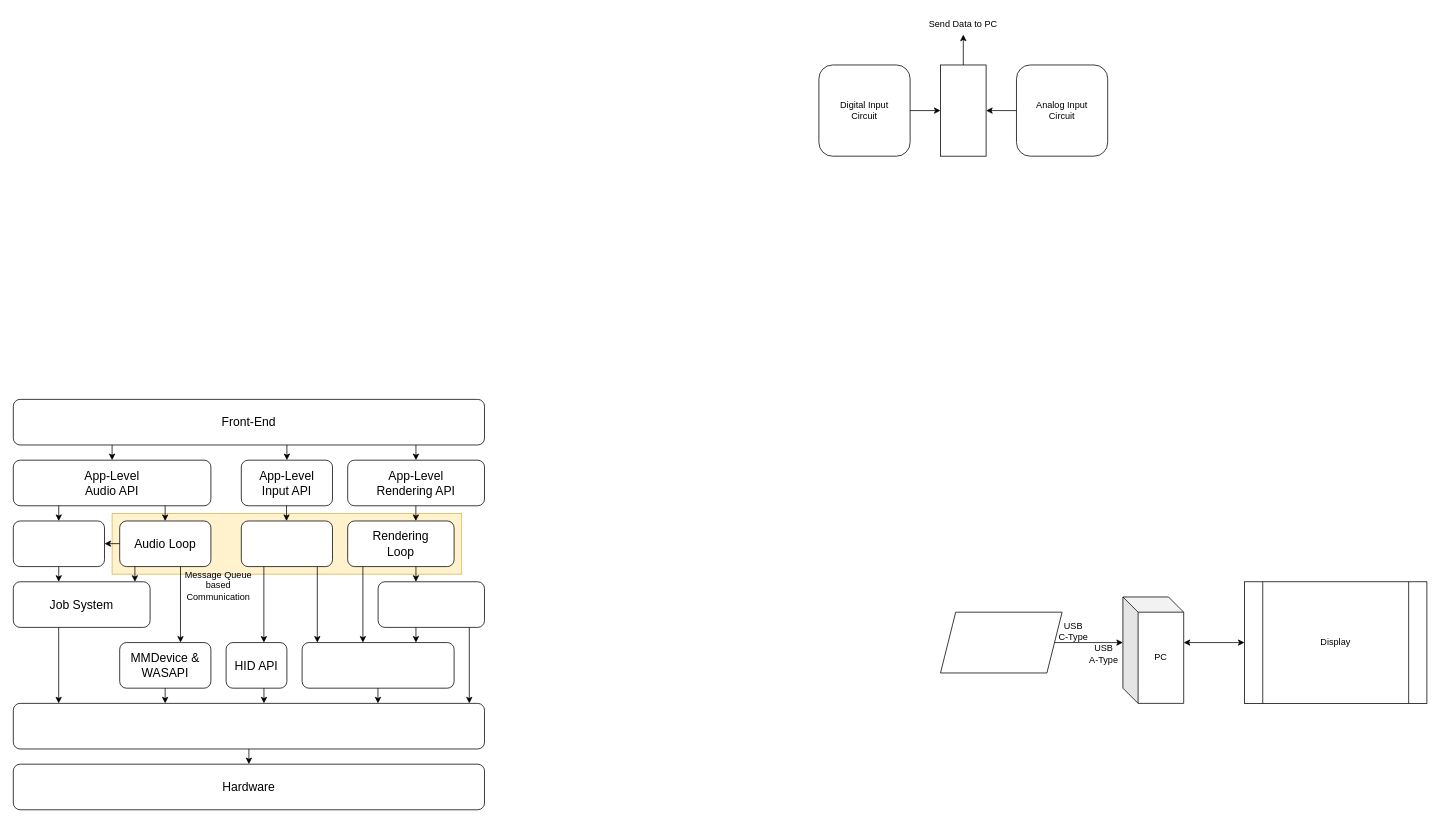
The diagram is 1440 pixels wide and 823 high, and some of its shapes have lost their labels. Each missing label, with the box of its shape:
DirectX 12: (377, 581, 484, 627)
DJ Controller (HID Device): (940, 611, 1062, 673)
File System: (13, 520, 104, 567)
Input Loop: (241, 520, 332, 567)
Pro Micro MCU Board: (940, 64, 986, 156)
WinAPI: (301, 642, 454, 688)
Windows OS: (13, 703, 484, 749)
